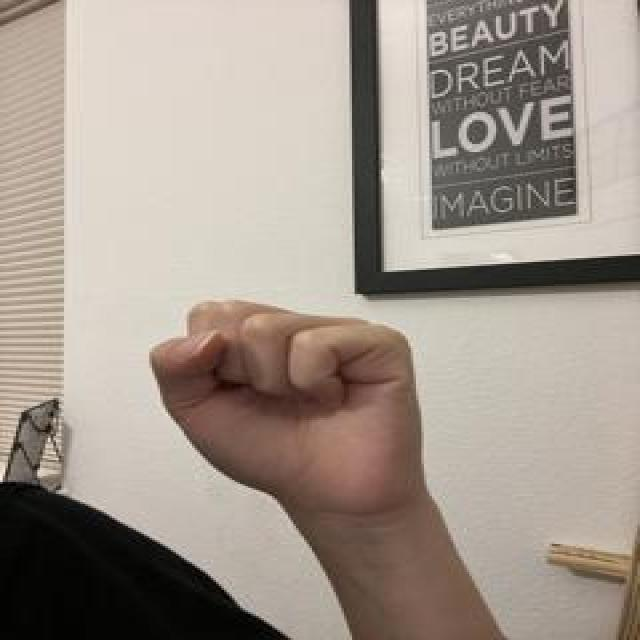S: (143, 295, 436, 519)
